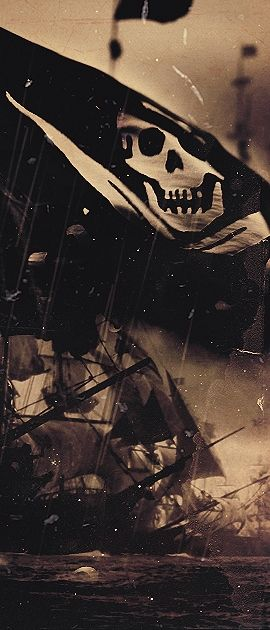Jolly Roger Flag: (1, 24, 270, 356)
